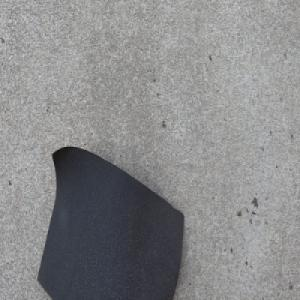PaintChip: (37, 144, 186, 299)
